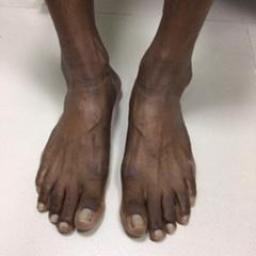Dorsal View -Both Feet-: (28, 24, 210, 244)
